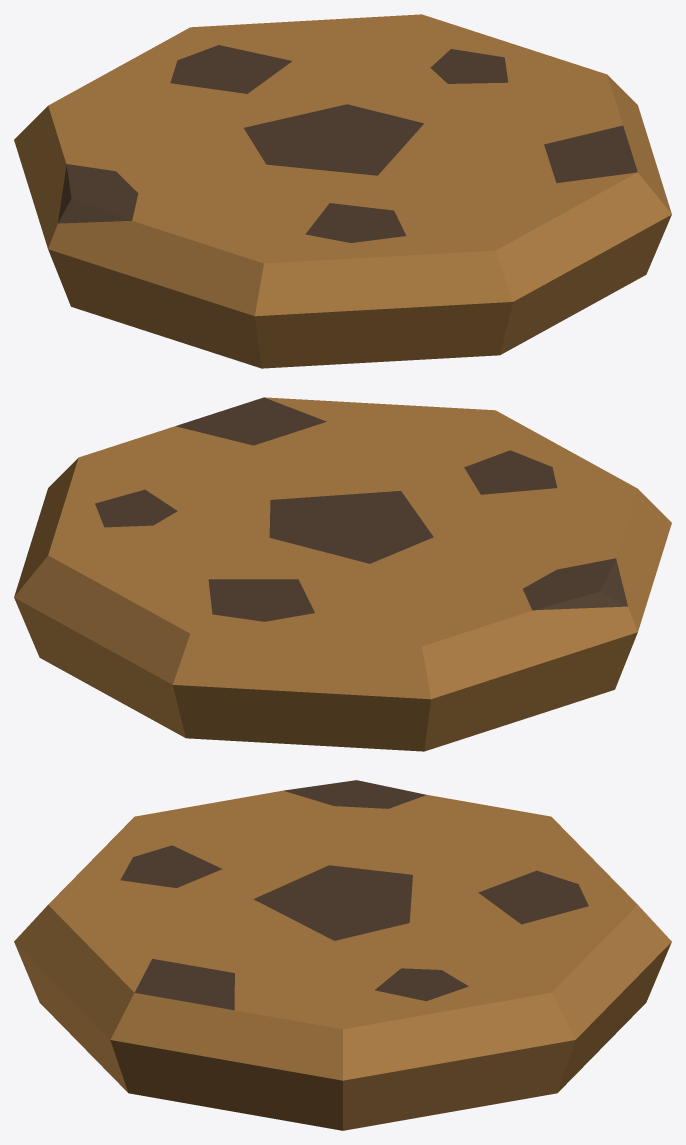
The model's file is cookie.glb.
The picture shows the model from 3 angles, top to bottom: view 1: azimuth 30°, elevation 25°; view 2: azimuth 150°, elevation 25°; view 3: azimuth 270°, elevation 25°; orthographic projection. The views are drawn at different scales.
Parts seen in each view (by area): view 1: cookie; view 2: cookie; view 3: cookie.
Boxes of the visible parts, bbox=[...] form: cookie: bbox=[14, 14, 671, 368]; cookie: bbox=[14, 397, 671, 751]; cookie: bbox=[14, 780, 671, 1130].
Size of the model in its own units: 0.1023 by 0.0168 by 0.1023.
1 material, 1 textured.
